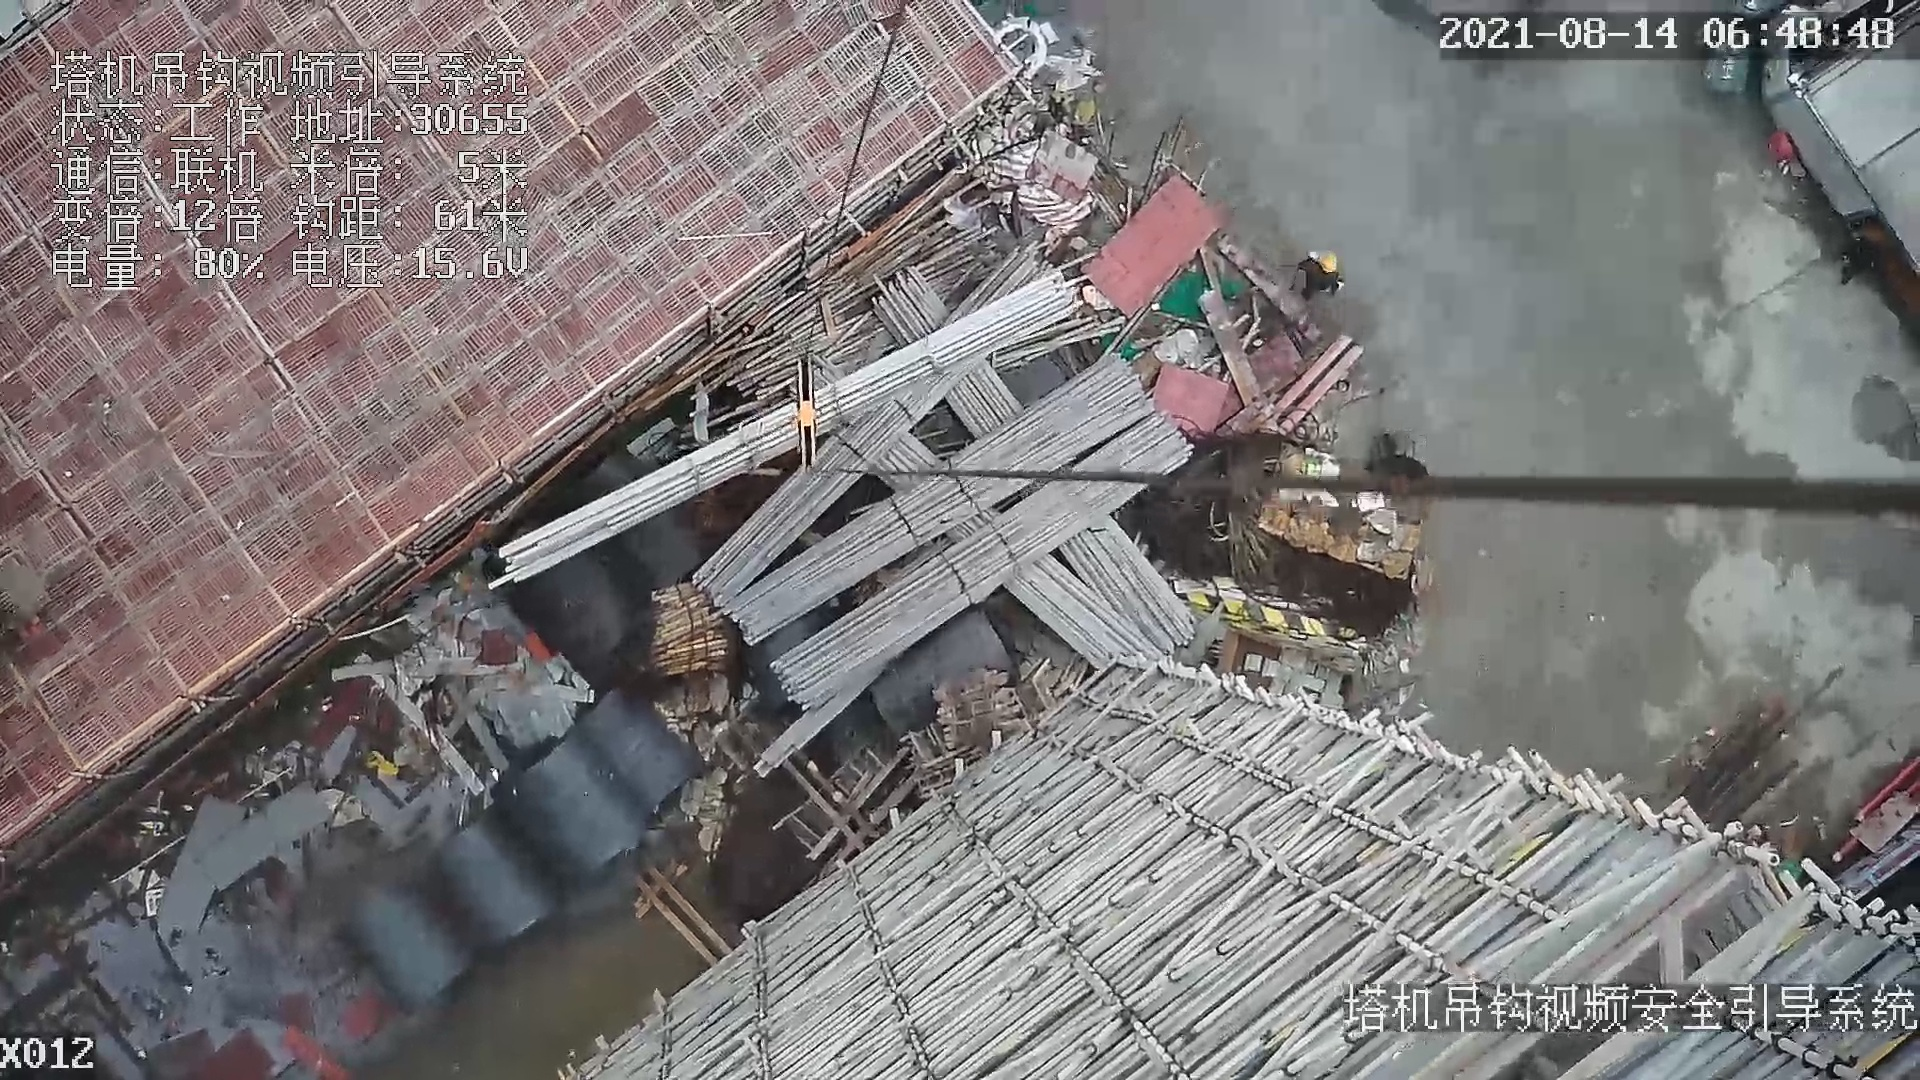helmet: (1319, 252, 1337, 271)
hook: (782, 354, 824, 472)
person: (1301, 245, 1346, 305)
scaffold: (652, 576, 734, 686)
